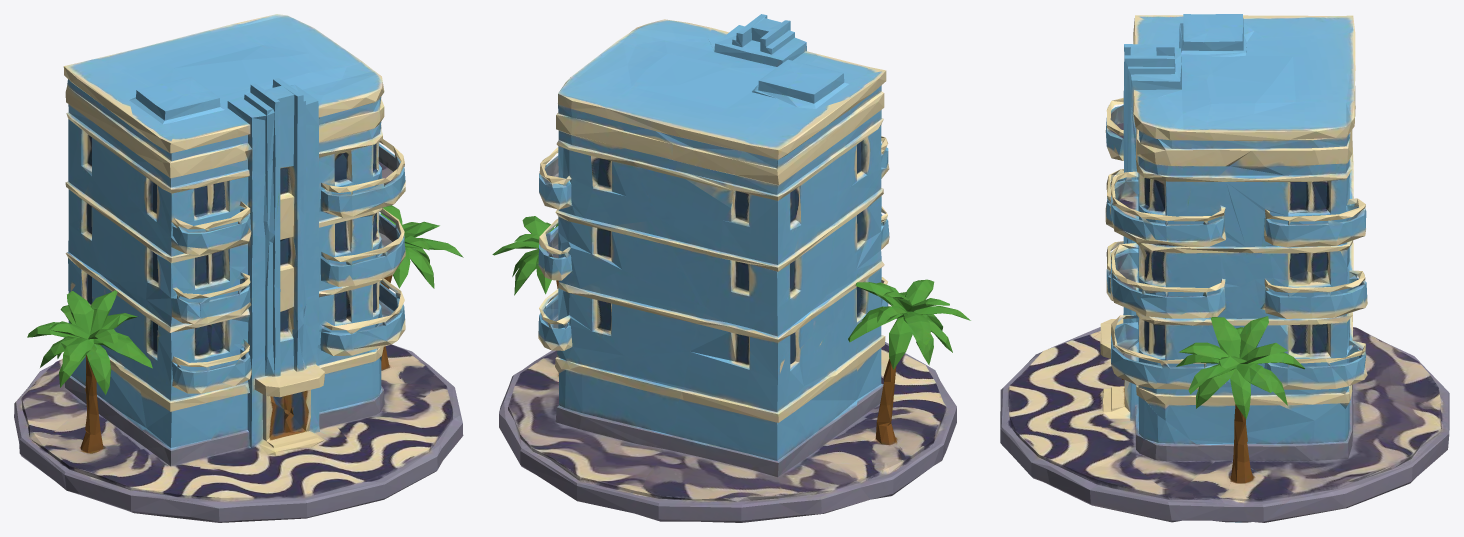
File: rio-edificio-deco.glb
3 views of the same model, side by side, from view 1: azimuth 30°, elevation 25°; view 2: azimuth 150°, elevation 25°; view 3: azimuth 270°, elevation 25° (orthographic). The views are drawn at different scales.
Visible parts, largest first — view 1: tripo_node_39f7ef0a-7f80-4ee5-baec-875db068f8be; view 2: tripo_node_39f7ef0a-7f80-4ee5-baec-875db068f8be; view 3: tripo_node_39f7ef0a-7f80-4ee5-baec-875db068f8be.
Part boxes in pixels (x1,y1,x2,y2): tripo_node_39f7ef0a-7f80-4ee5-baec-875db068f8be: [14, 14, 463, 522]; tripo_node_39f7ef0a-7f80-4ee5-baec-875db068f8be: [492, 14, 970, 522]; tripo_node_39f7ef0a-7f80-4ee5-baec-875db068f8be: [1000, 14, 1449, 522].
Bounding box in the file's own units: 0.9993 × 0.8484 × 0.9078.
1 material, 1 textured.
